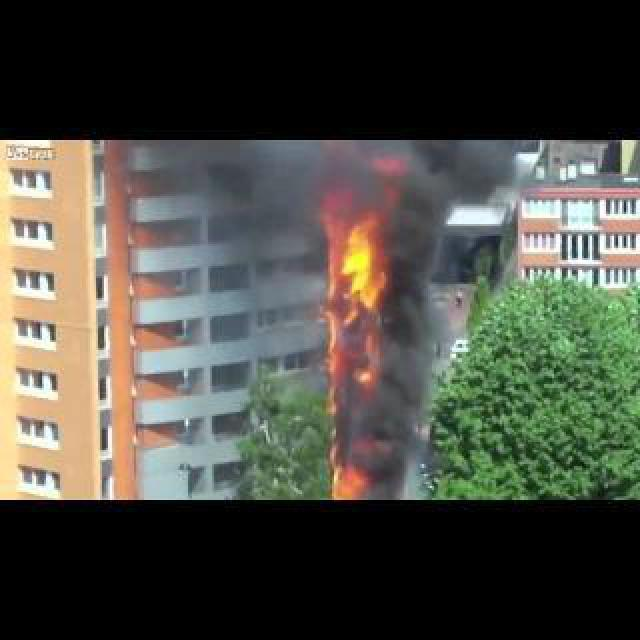Fire: (322, 190, 382, 384), (324, 448, 364, 498)
Smoke: (368, 140, 448, 498), (172, 140, 324, 304), (310, 374, 428, 462), (450, 140, 538, 212)
